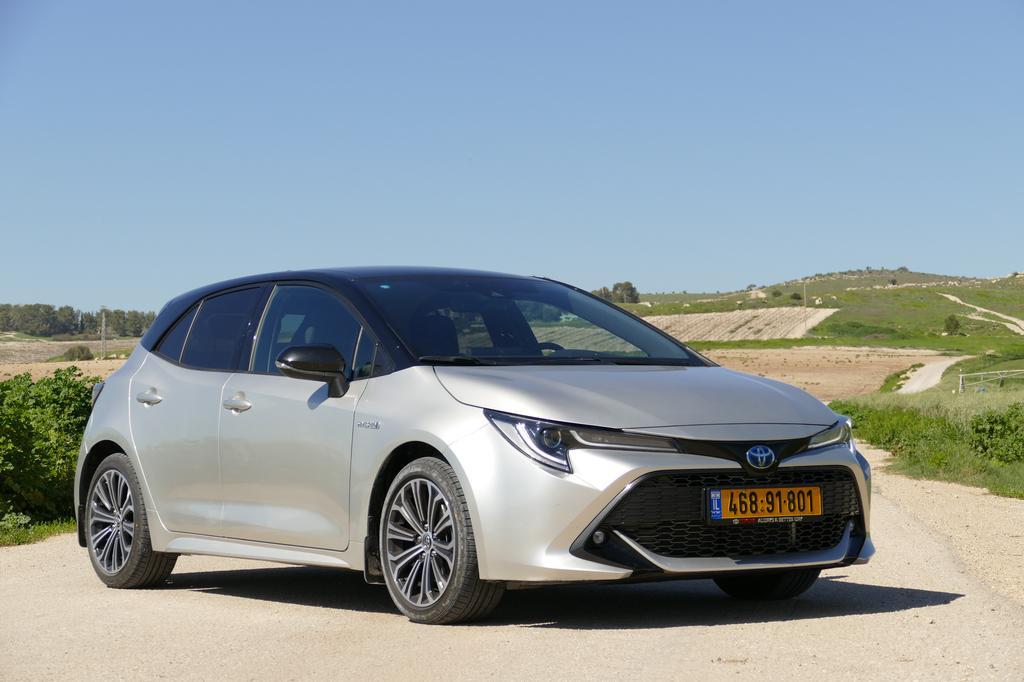licence: (703, 481, 825, 524)
